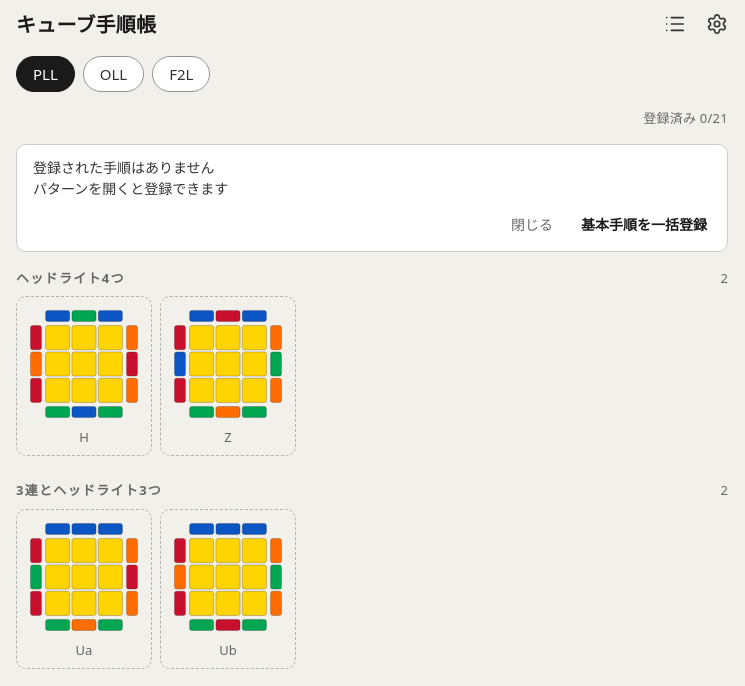
Test: ListScreen › F2L のタブには 41 種の 3 面の図が 6 の群で並び、見出しは「白」で書かれる
This screenshot has width=745, height=686.
Click the tab "F2L": (181, 74) [152,56,210,92]
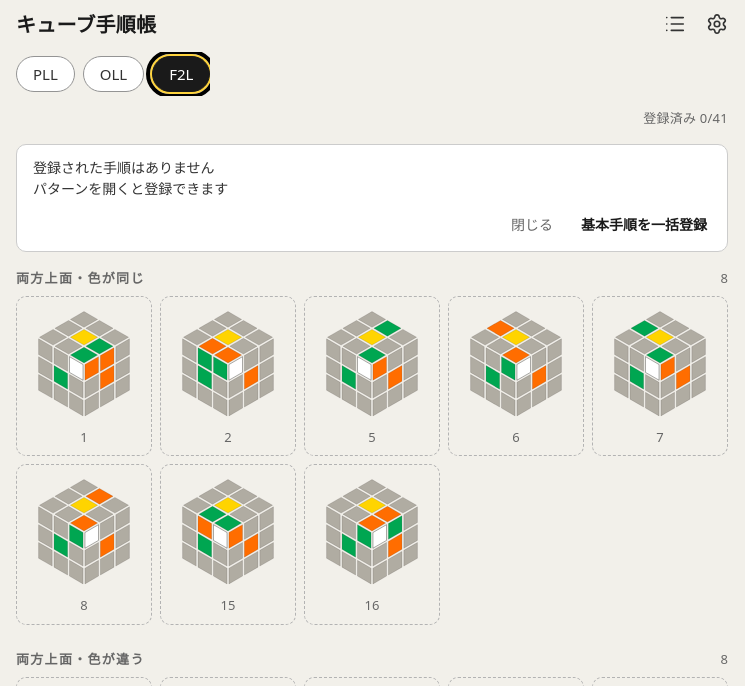
Check: the number of links named "未登録" is 41
